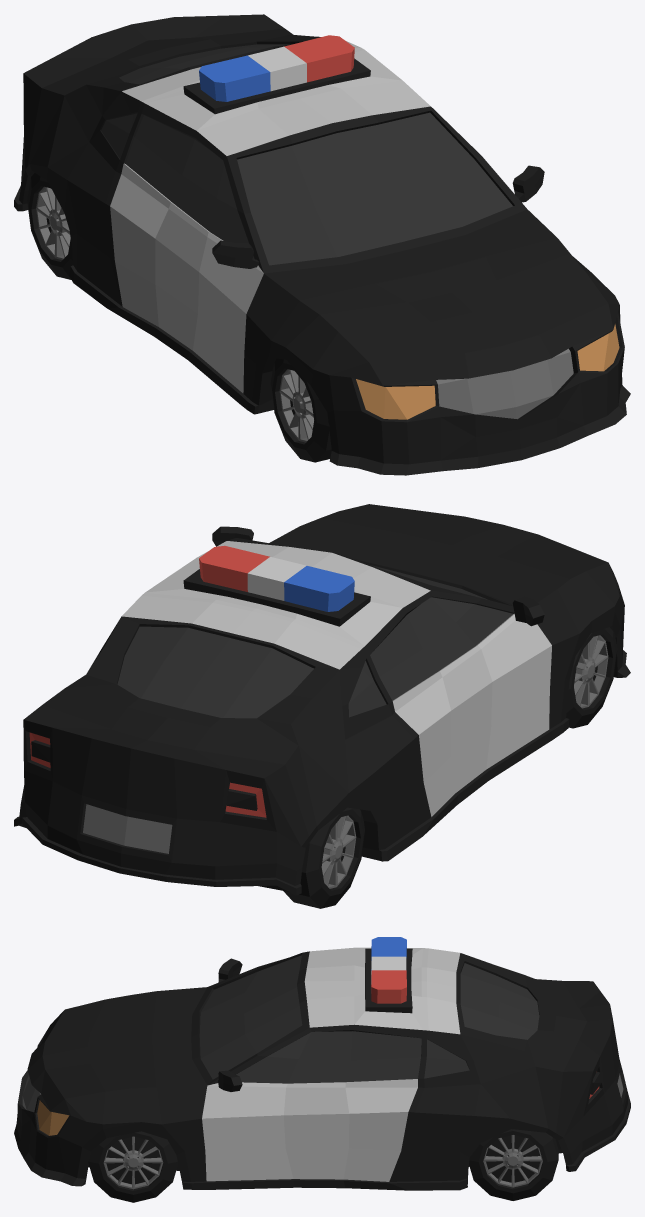
File: xe_tuantra.glb
The picture shows the model from 3 angles, top to bottom: view 1: azimuth 30°, elevation 25°; view 2: azimuth 150°, elevation 25°; view 3: azimuth 270°, elevation 25°; orthographic projection. The views are drawn at different scales.
Visible parts, largest first — view 1: Cop_Cube.001; view 2: Cop_Cube.001; view 3: Cop_Cube.001.
Part boxes in pixels (bbox=[...]): Cop_Cube.001: bbox=[14, 14, 630, 475]; Cop_Cube.001: bbox=[14, 504, 630, 908]; Cop_Cube.001: bbox=[14, 937, 630, 1202].
Bounding box in the file's own units: 1.78 × 1.24 × 3.73.
1 material, 1 textured.
